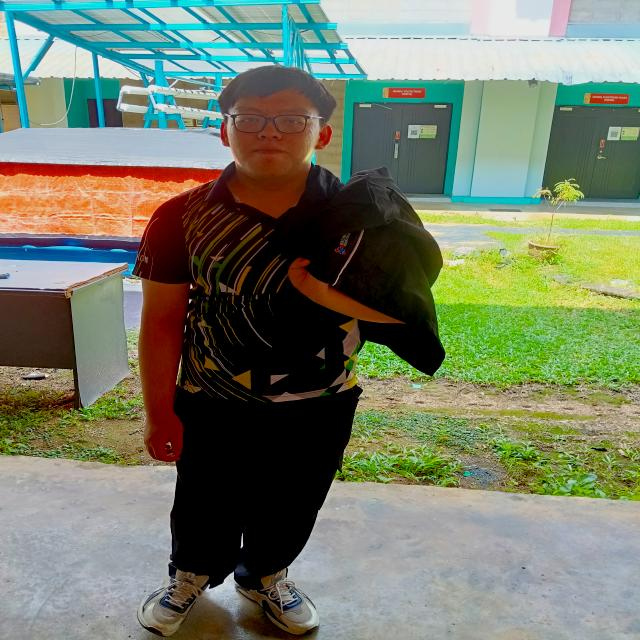person_without_labcoat: (133, 66, 445, 636)
